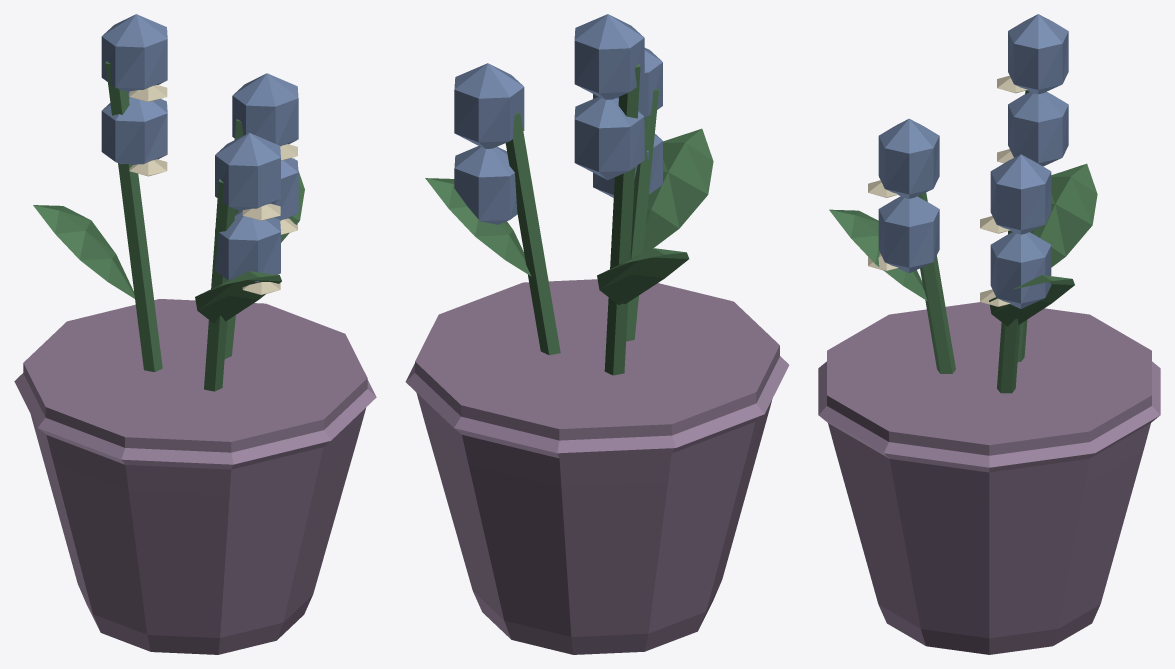
Rendered from flower_pot_c.glb.
The picture shows the model from 3 angles, left to right: view 1: azimuth 30°, elevation 25°; view 2: azimuth 150°, elevation 25°; view 3: azimuth 270°, elevation 25°; orthographic projection. The views are drawn at different scales.
Visible parts, largest first — view 1: geometry; view 2: geometry; view 3: geometry.
Part boxes in pixels (x1,y1,x2,y2): geometry: (14, 14, 376, 654); geometry: (405, 14, 789, 654); geometry: (818, 14, 1160, 654).
Size of the model in its own units: 0.4 by 0.71 by 0.3804.
